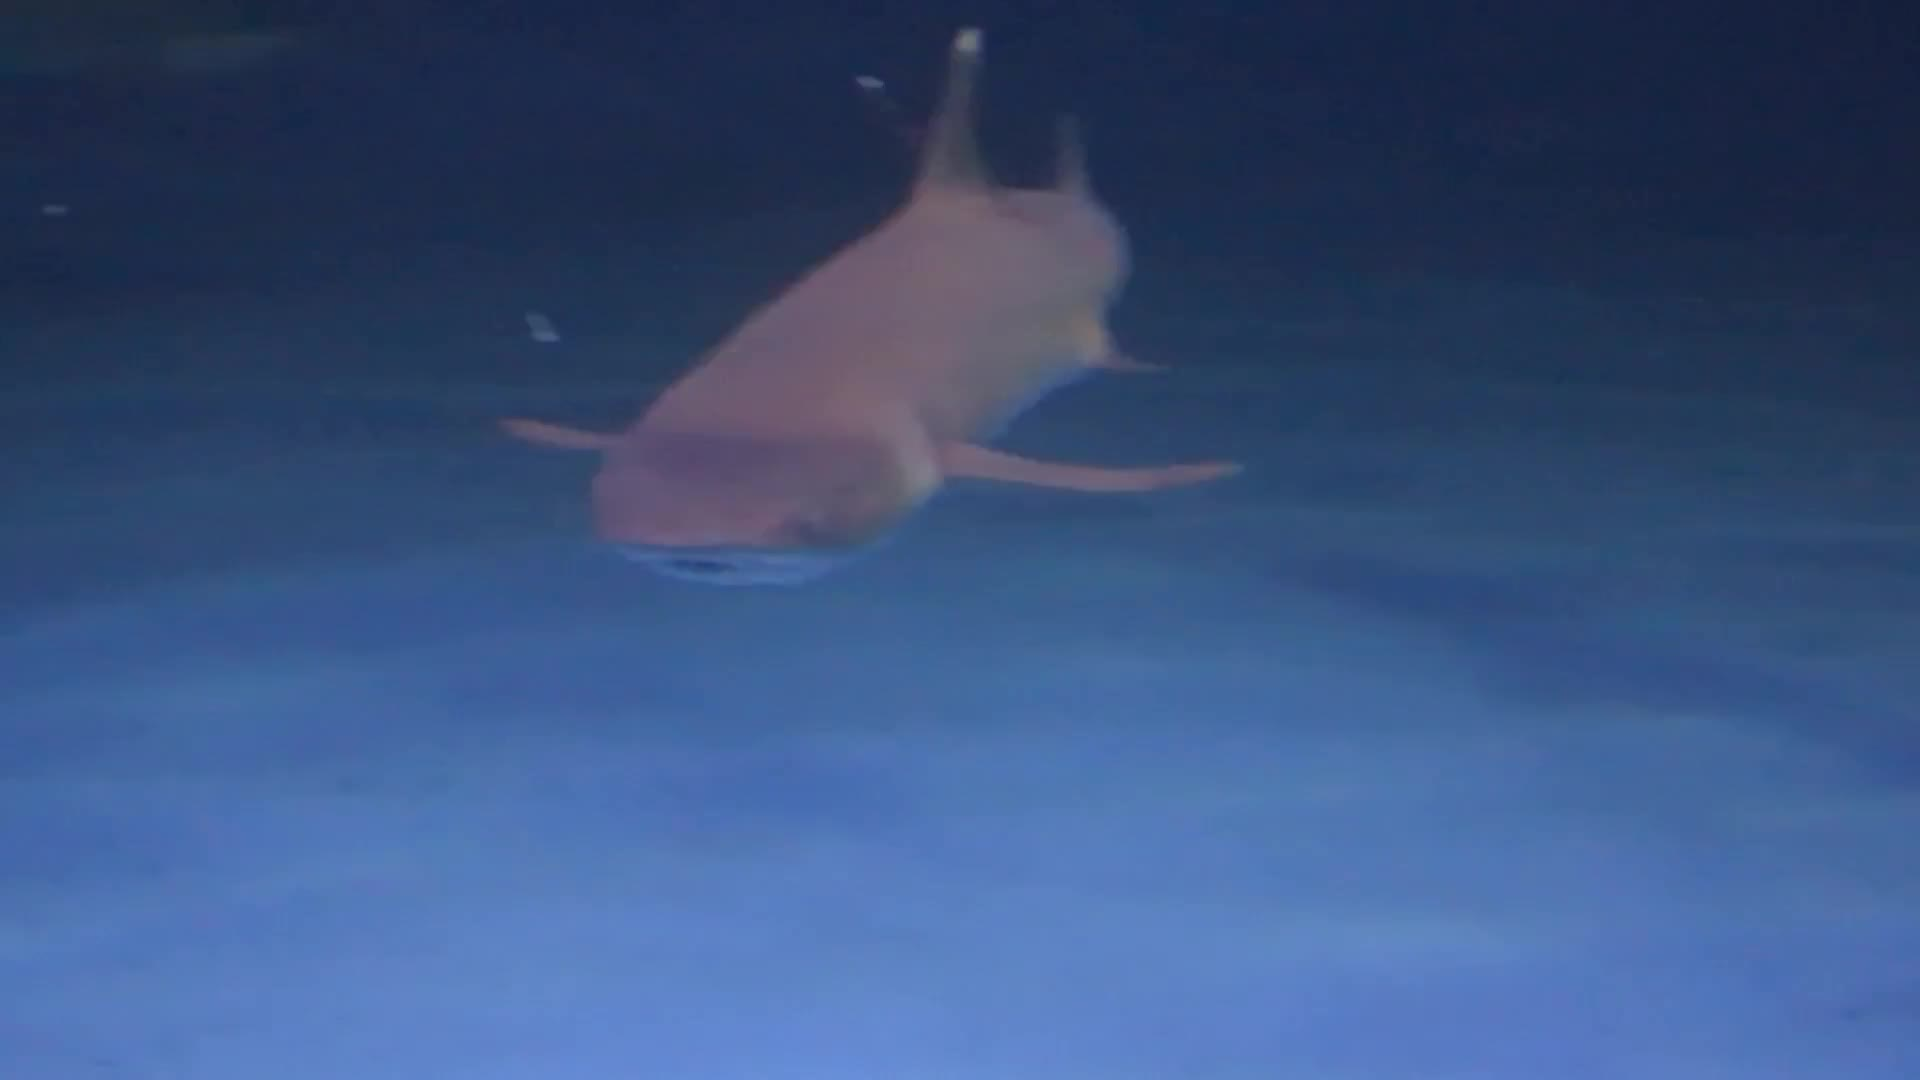Triaenodon obesus: (455, 32, 1308, 603)
